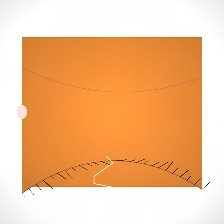foreign_body_visible: (165, 108, 191, 129)
